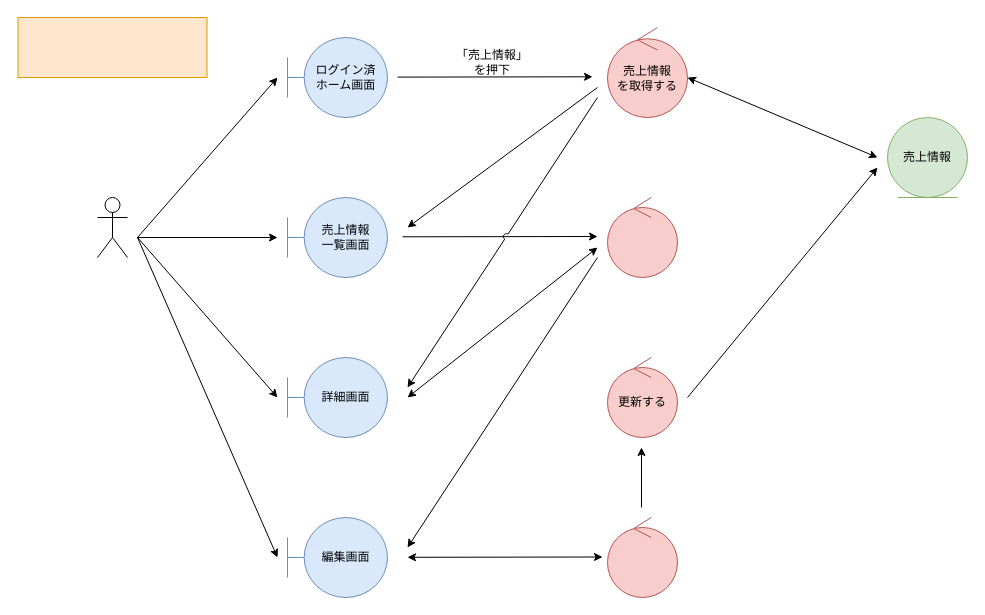
Image size: 985x615. Some labels were removed from this diagram. Each missing label, with the box of its shape:
入力データを検証する: (606, 516, 678, 598)
売上情報管理_編集: (17, 16, 207, 78)
正規社員 非正規社員: (96, 196, 128, 258)
表示する: (606, 196, 678, 278)
